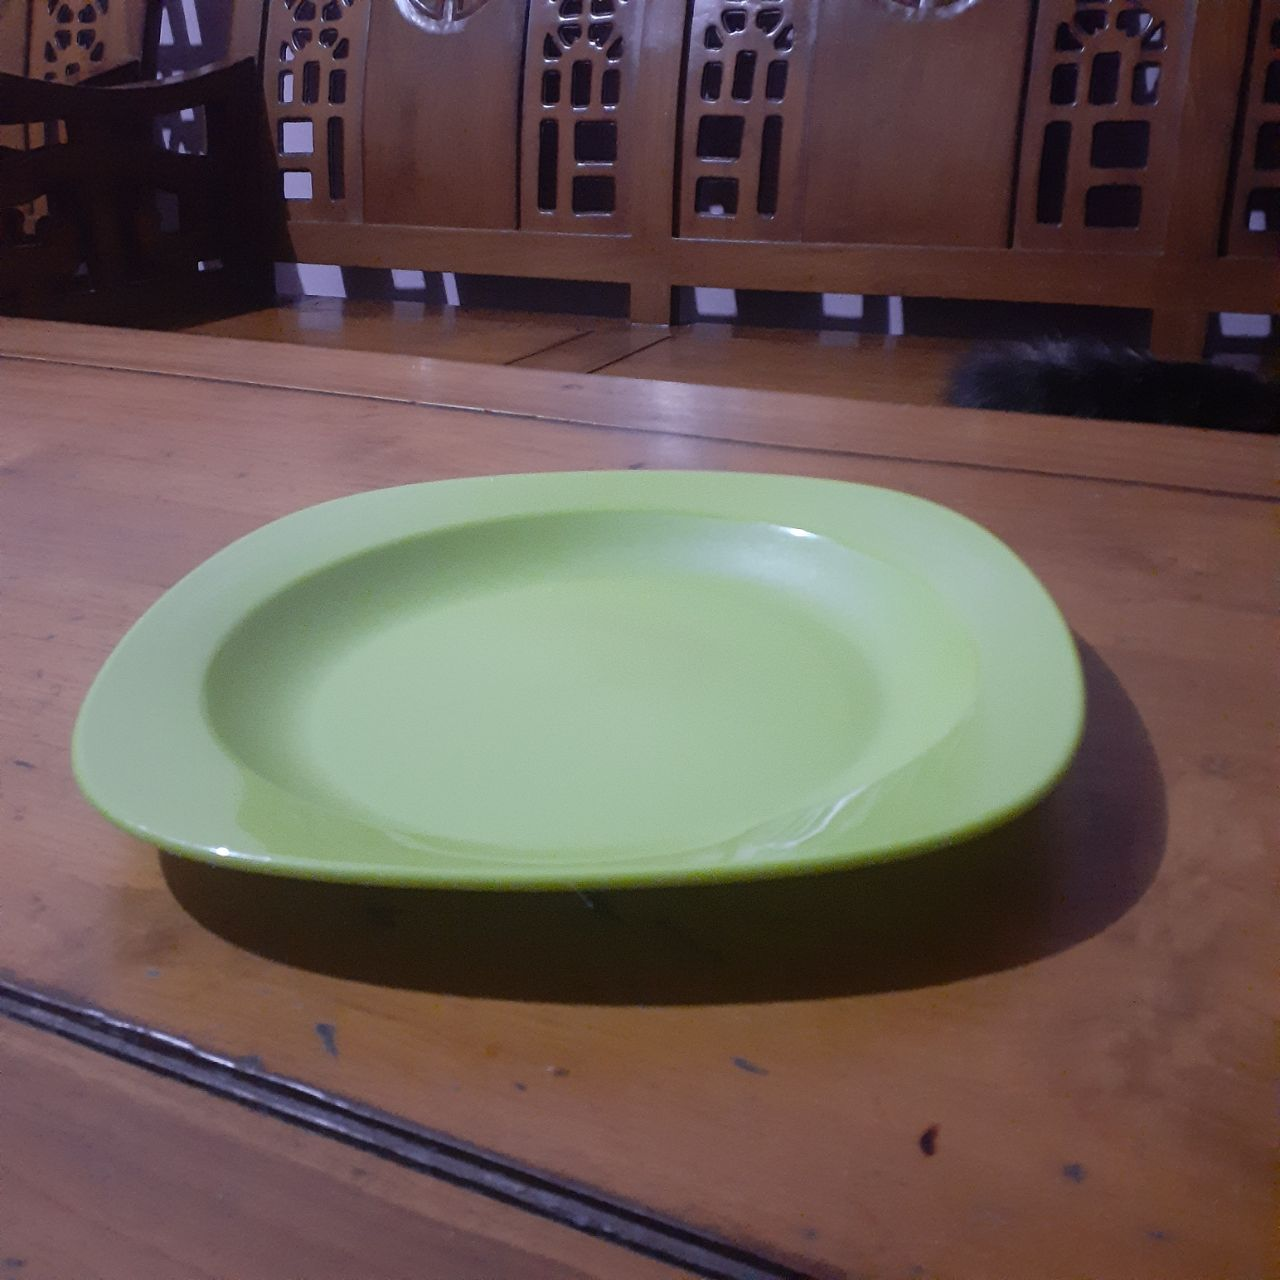piring: (66, 458, 1096, 876)
